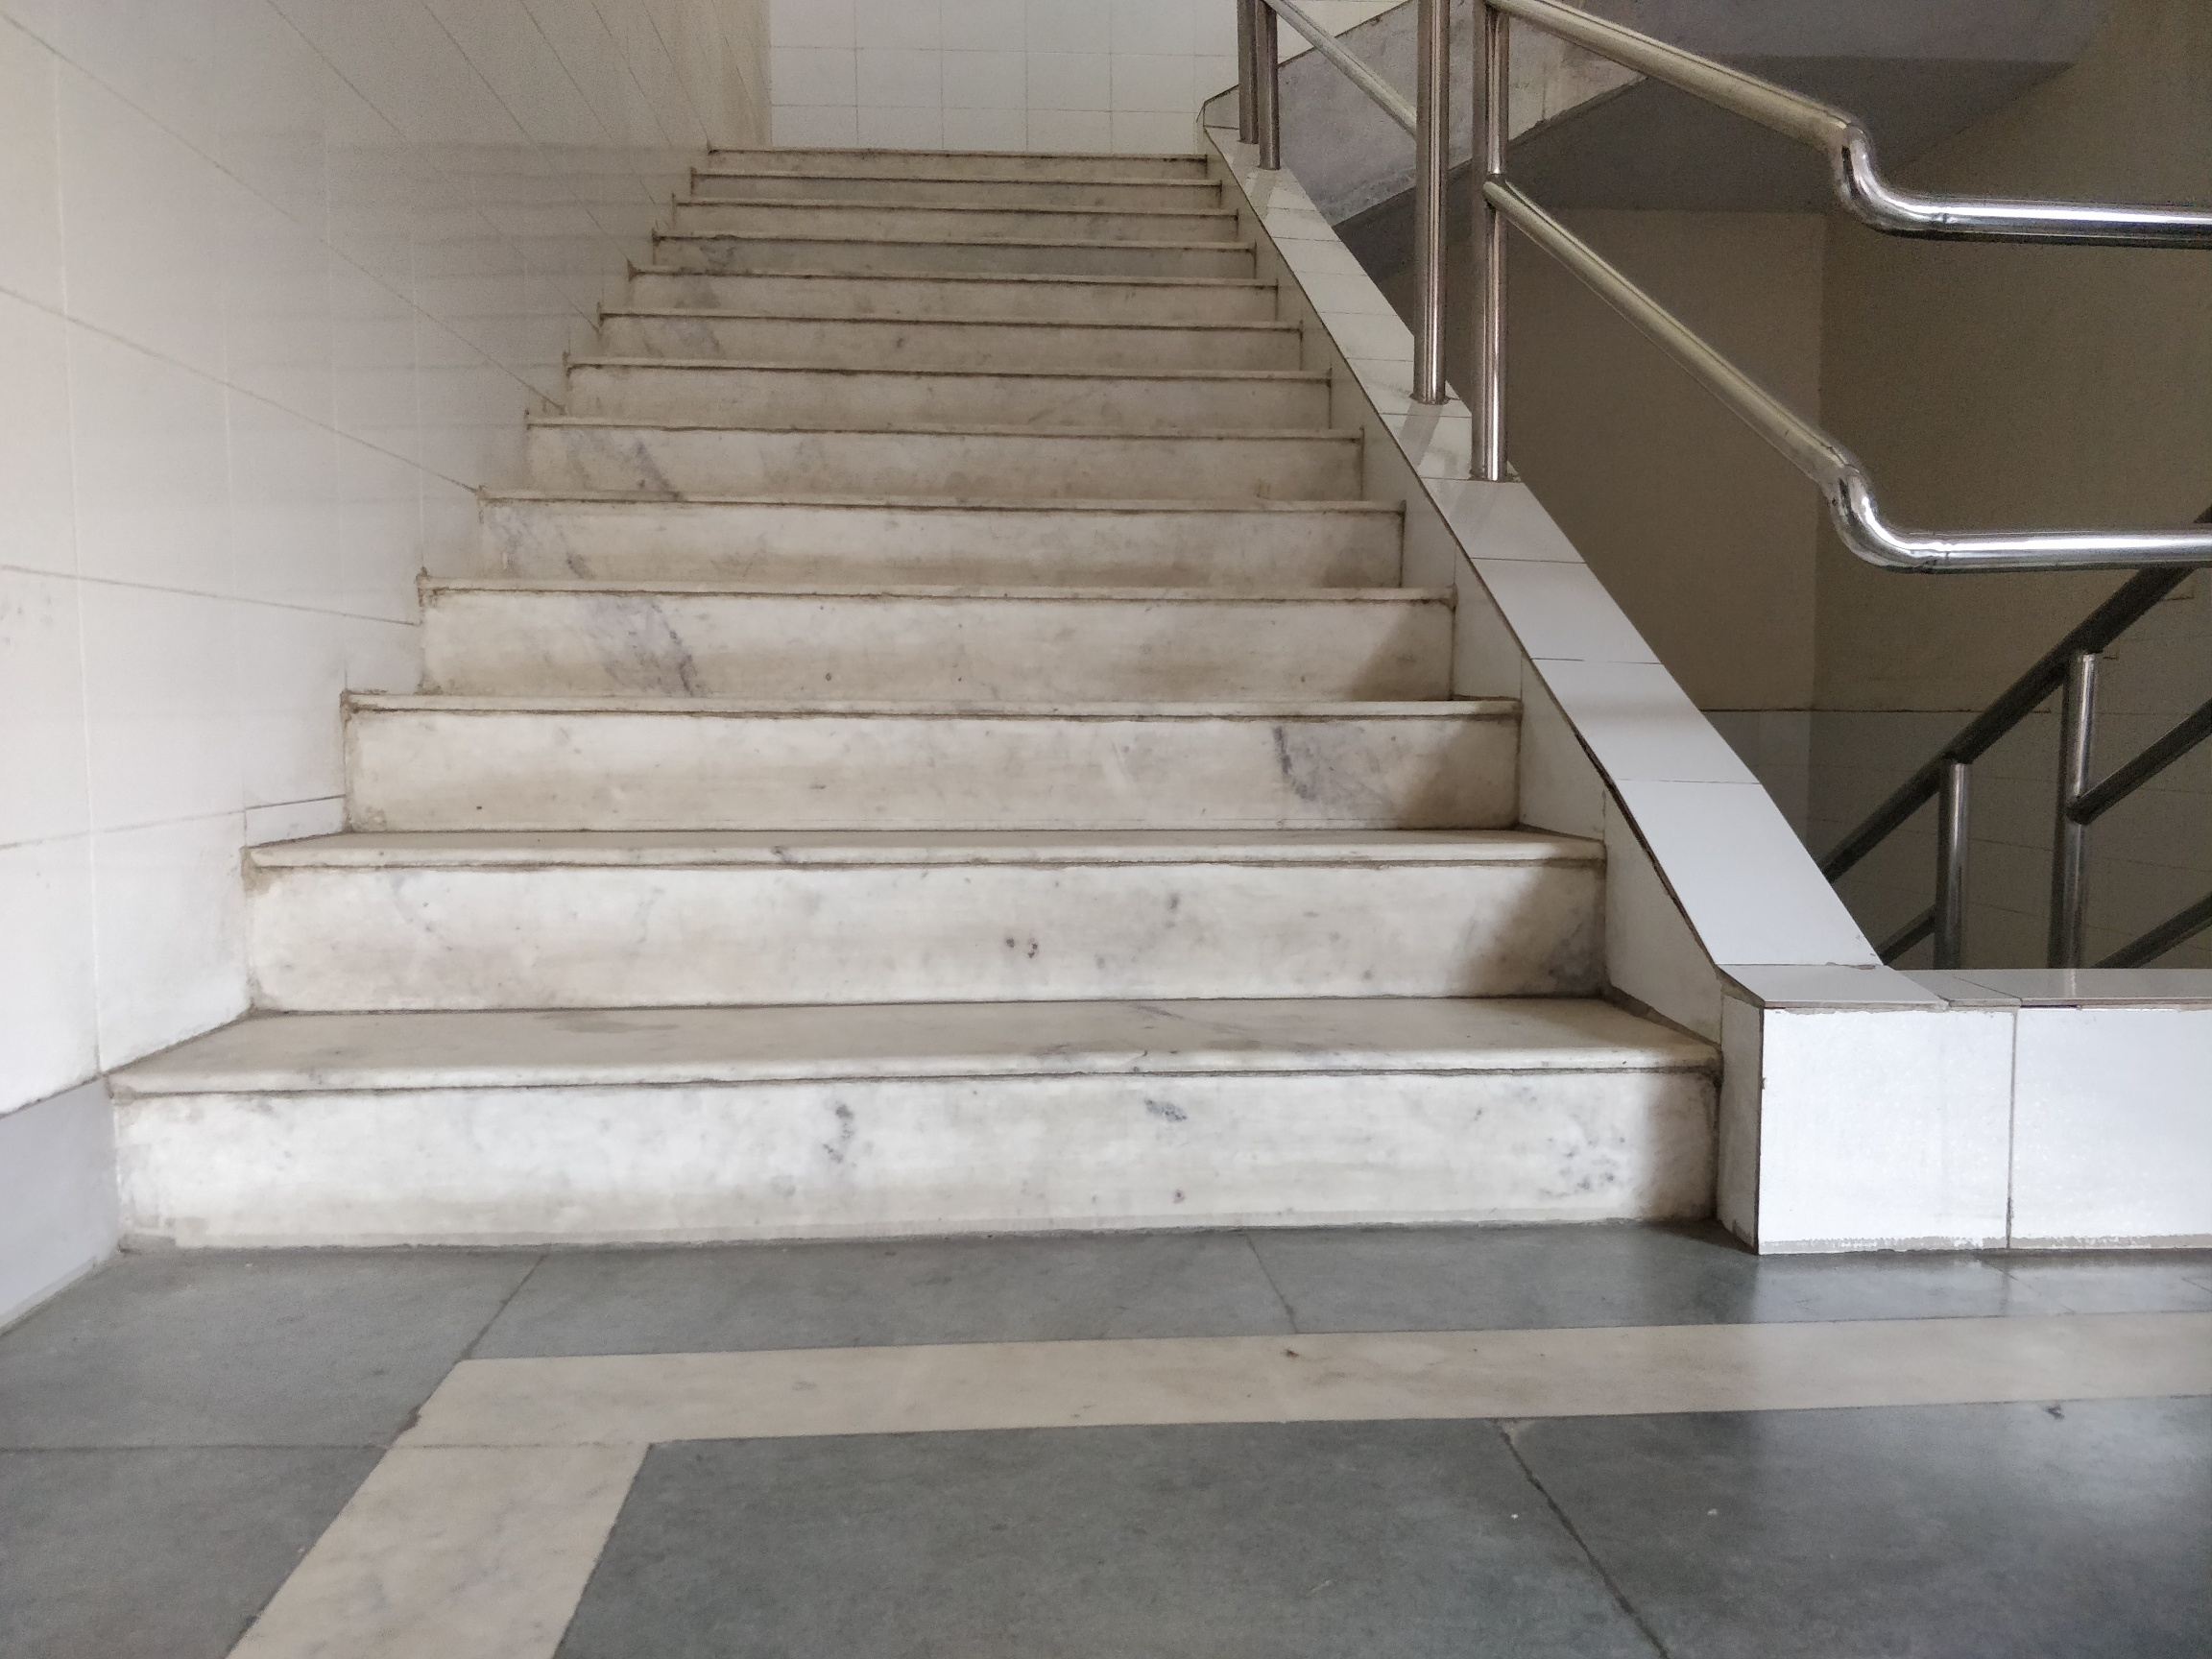stairs_up: (146, 132, 1731, 1288)
